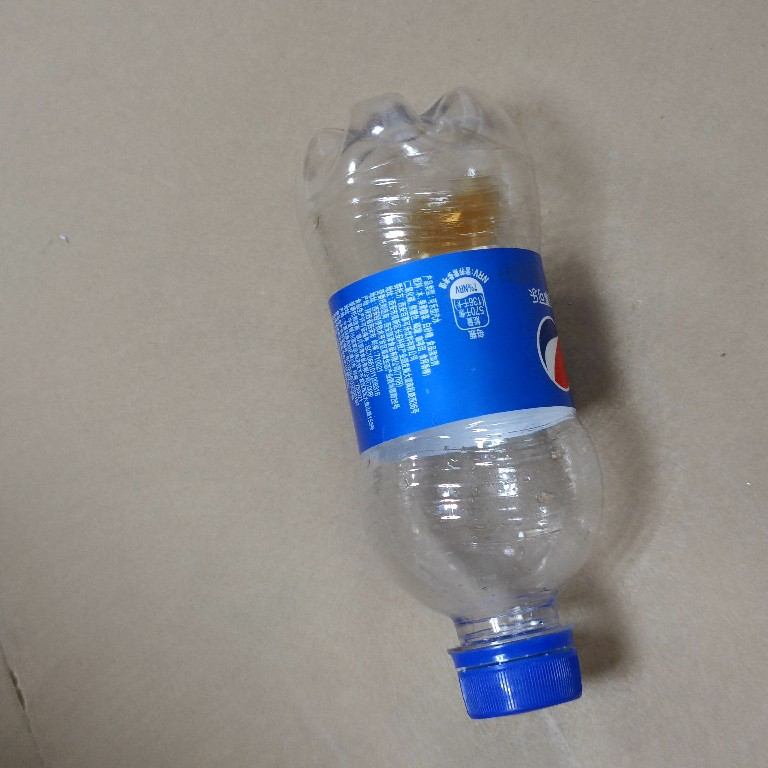bottle: (292, 73, 619, 725)
